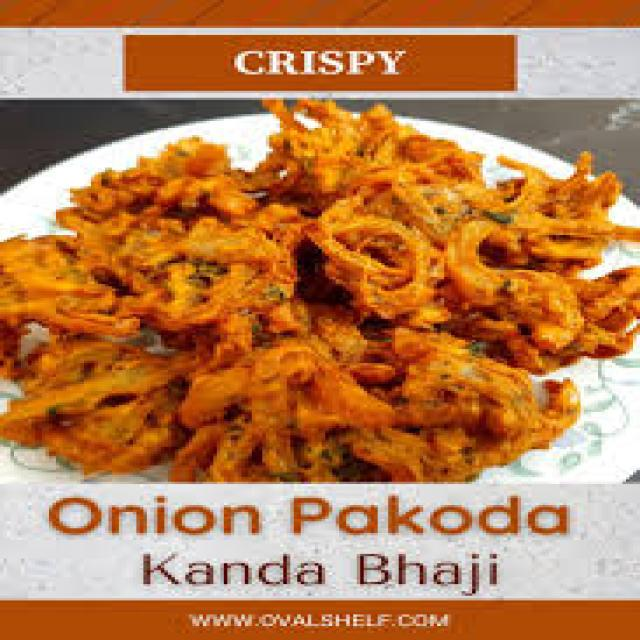BAJI: (0, 98, 637, 476)
